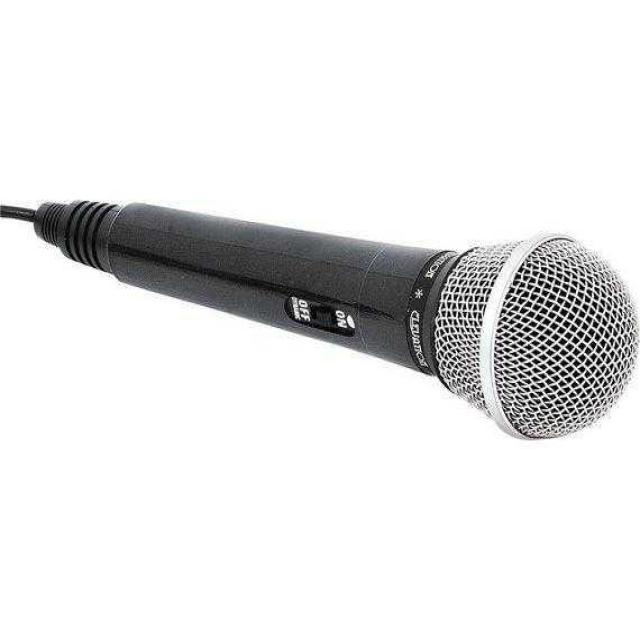microphone: (44, 186, 639, 464)
